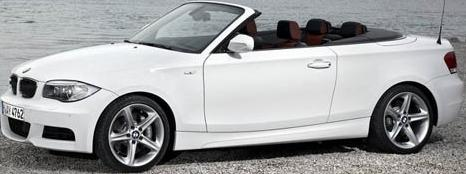front_view: (0, 59, 103, 156)
headlight: (39, 78, 103, 105)
